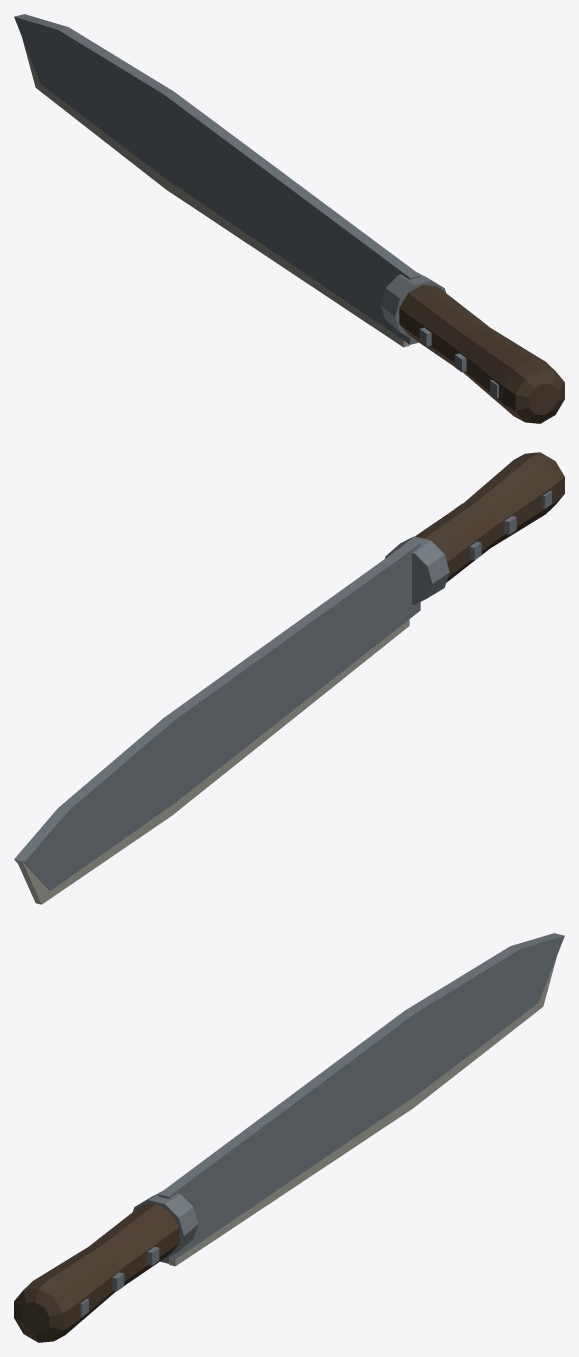
The model's file is machete.glb.
The picture shows the model from 3 angles, top to bottom: view 1: azimuth 30°, elevation 25°; view 2: azimuth 150°, elevation 25°; view 3: azimuth 330°, elevation 25°; orthographic projection.
Parts seen in each view (by area): view 1: machete; view 2: machete; view 3: machete.
Boxes of the visible parts, bbox=[...] form: machete: bbox=[14, 14, 564, 423]; machete: bbox=[14, 452, 564, 904]; machete: bbox=[14, 933, 564, 1342].
Bounding box in the file's own units: 0.036 × 0.06 × 0.596.
1 material, 1 textured.
